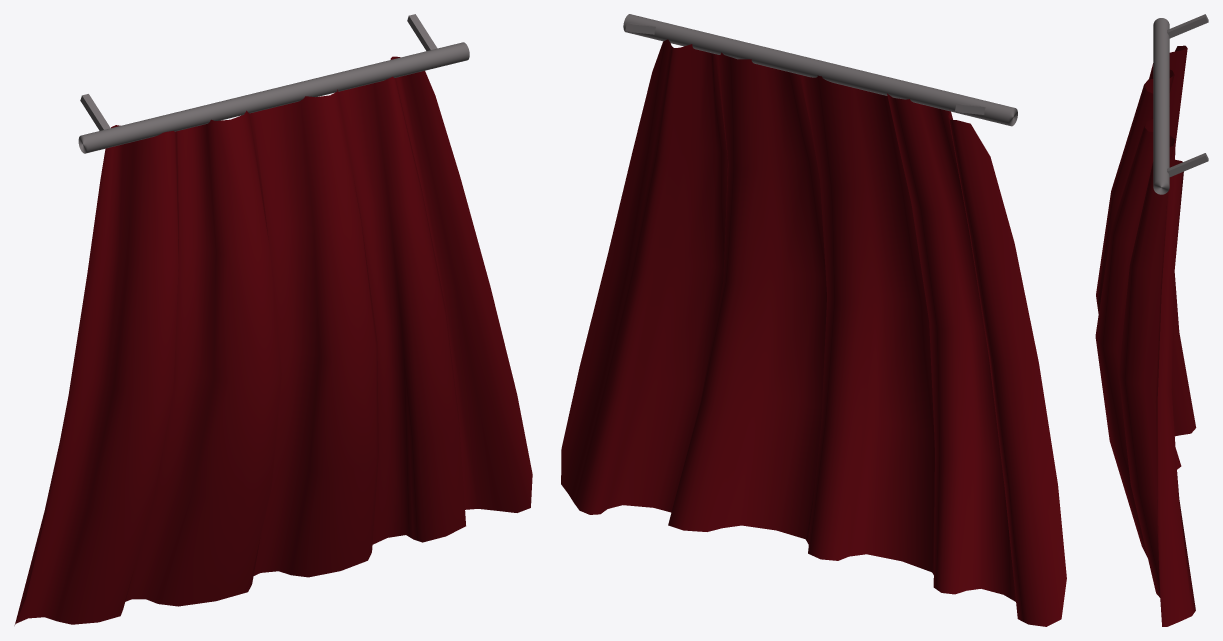
Rendered from cortinas.fbx.
3 views of the same model, side by side, from view 1: azimuth 30°, elevation 25°; view 2: azimuth 150°, elevation 25°; view 3: azimuth 270°, elevation 25° (orthographic). The views are drawn at different scales.
Parts seen in each view (by area): view 1: Plane, Cylinder; view 2: Plane, Cylinder; view 3: Plane, Cylinder.
Part boxes in pixels (x1,y1,x2,y2): Plane: (14,56,532,625); Cylinder: (78,14,469,153); Plane: (561,39,1066,626); Cylinder: (623,14,1017,126); Plane: (1095,45,1196,626); Cylinder: (1153,14,1208,194).
Size of the model in its own units: 169 by 161 by 37.45.
